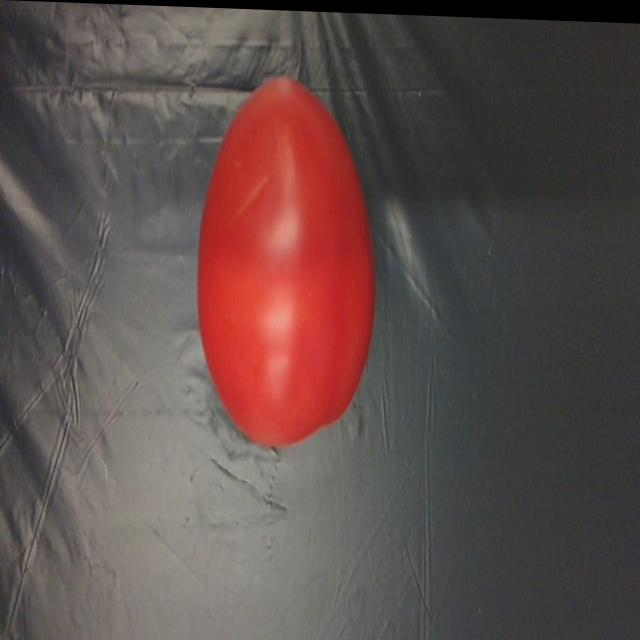kirmizi: (188, 68, 382, 449)
